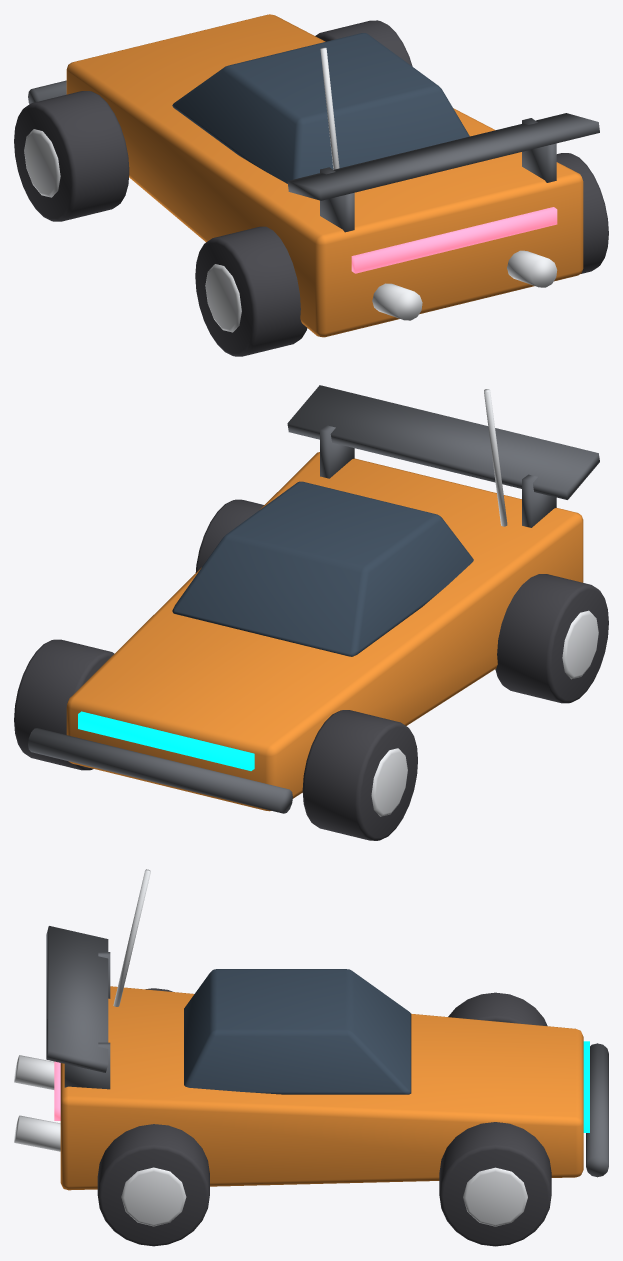
File: RC_Car_Scrapper.fbx
The picture shows the model from 3 angles, top to bottom: view 1: azimuth 30°, elevation 25°; view 2: azimuth 150°, elevation 25°; view 3: azimuth 270°, elevation 25°; orthographic projection. The views are drawn at different scales.
Visible parts, largest first — view 1: Chassis_Body, Wheel_FL, Wheel_RL, Wheel_RR, Wheel_FR; view 2: Chassis_Body, Wheel_FL, Wheel_RL, Wheel_FR, Wheel_RR; view 3: Chassis_Body, Wheel_FR, Wheel_RR, Wheel_FL.
Part boxes in pixels (x1,y1,x2,y2): Chassis_Body: (28,14,599,337); Wheel_FL: (14,91,129,221); Wheel_RL: (195,226,307,356); Wheel_RR: (556,153,608,273); Wheel_FR: (315,20,412,66); Chassis_Body: (28,385,599,813); Wheel_FL: (302,710,417,840); Wheel_RL: (495,574,608,703); Wheel_FR: (14,639,114,770); Wheel_RR: (195,499,263,572); Chassis_Body: (14,869,608,1190); Wheel_FR: (439,1122,551,1246); Wheel_RR: (97,1124,209,1246); Wheel_FL: (448,992,547,1026).
Bounding box in the file's own units: 1.5 × 2.33 × 1.14.
